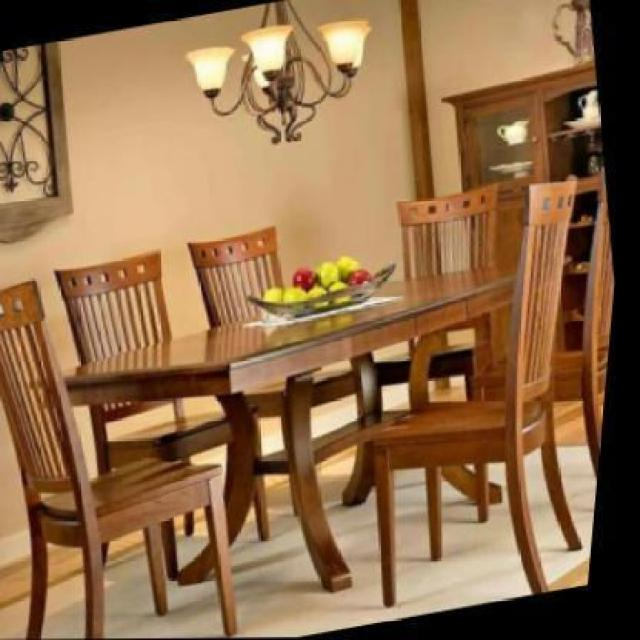tables: (52, 263, 520, 595)
